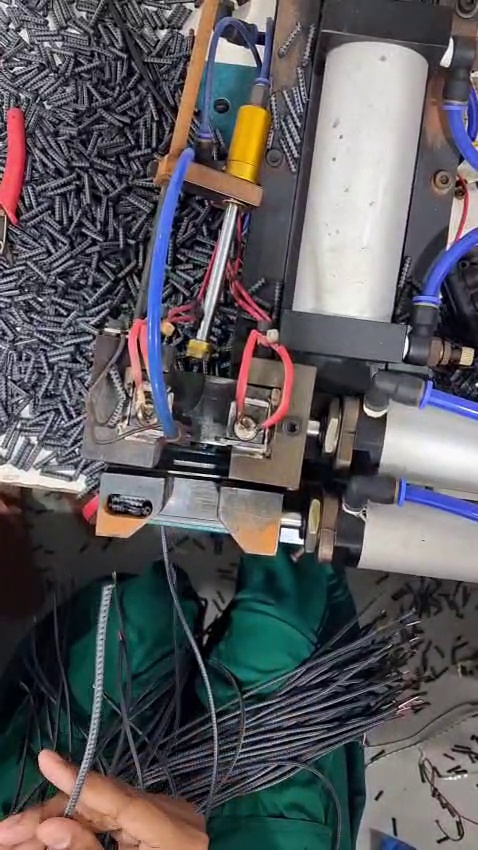intact_wire: (85, 563, 134, 642)
machine: (80, 308, 331, 514)
